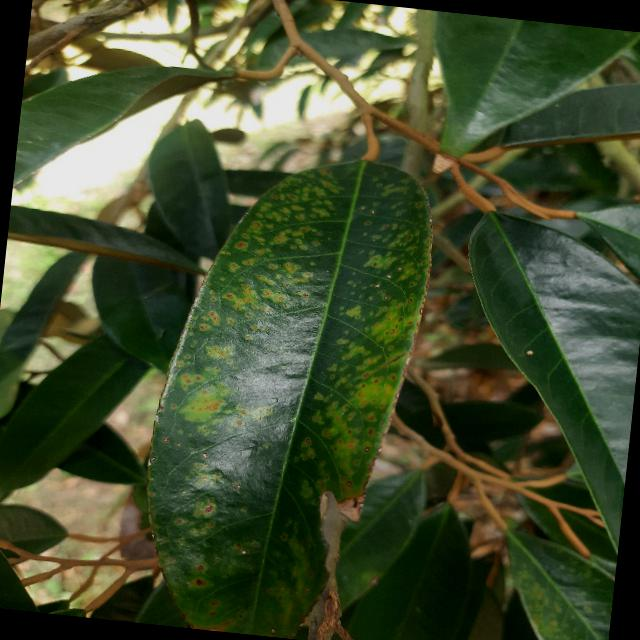Leaf Spot: (116, 126, 453, 639)
